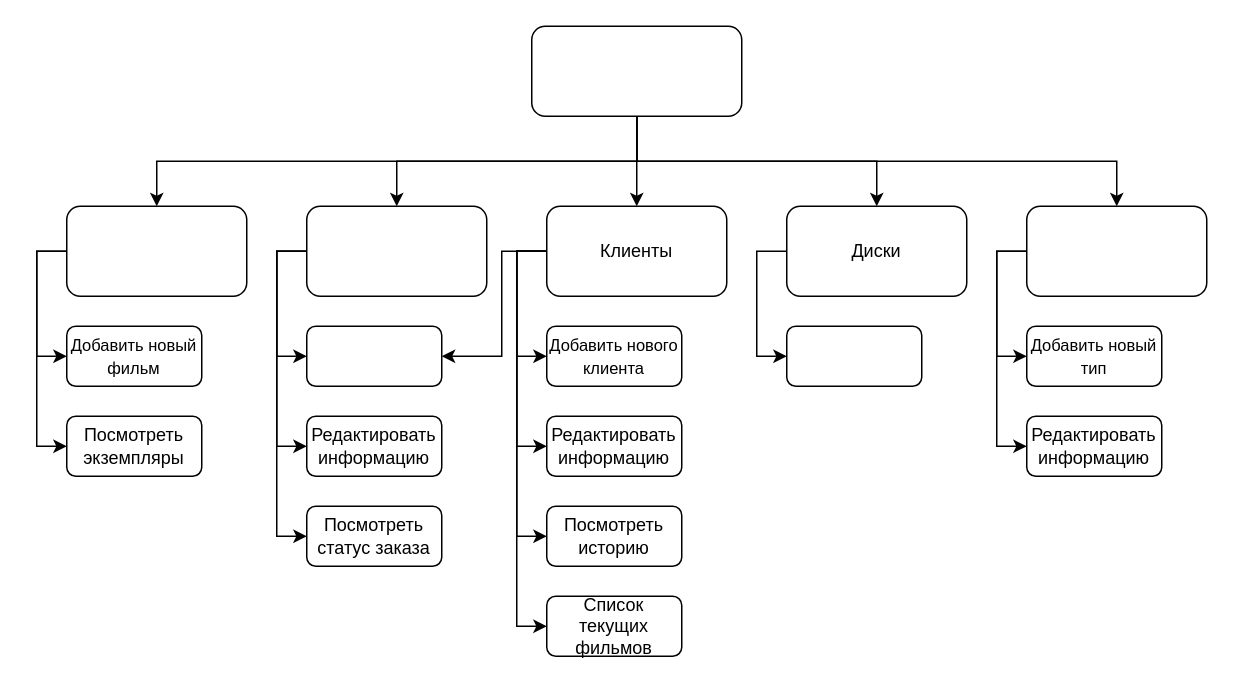
The diagram is 1233 pixels wide and 684 high, and some of its shapes have lost their labels. Each missing label, with the centre of its shape:
Главная страница: the point at 636,70
Добавить новый диск: the point at 853,355
Добавить новый заказ: the point at 373,355
Заказы: the point at 396,250
Типы дисков: the point at 1116,250
Фильмы: the point at 156,250
